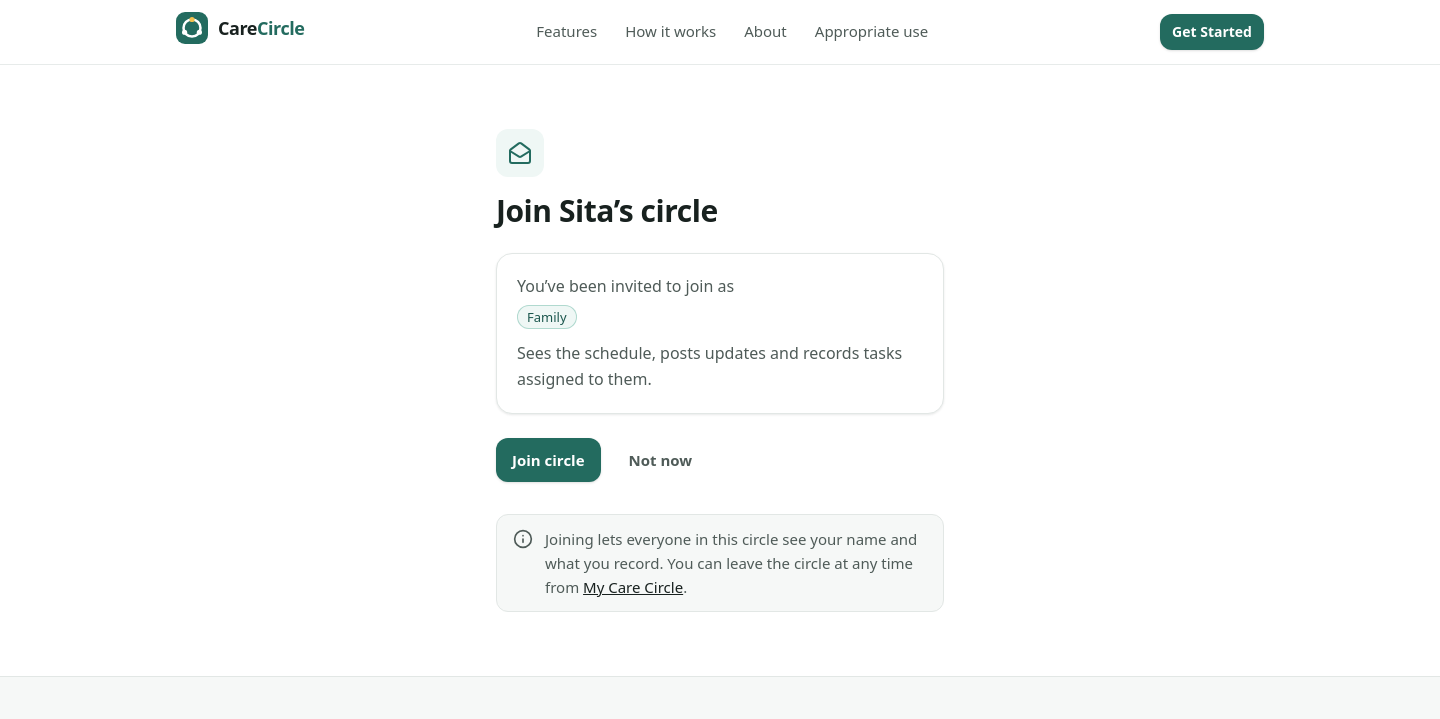
care circle › lets someone join through an invitation link
expect the heading "Join Sita’s circle" is shown: met, box [496,190,718,231]
What coordinates should you click on to do the following:
click the button "Join circle"
I would click on:
 (548, 460)
Its box is [496,438,600,482].
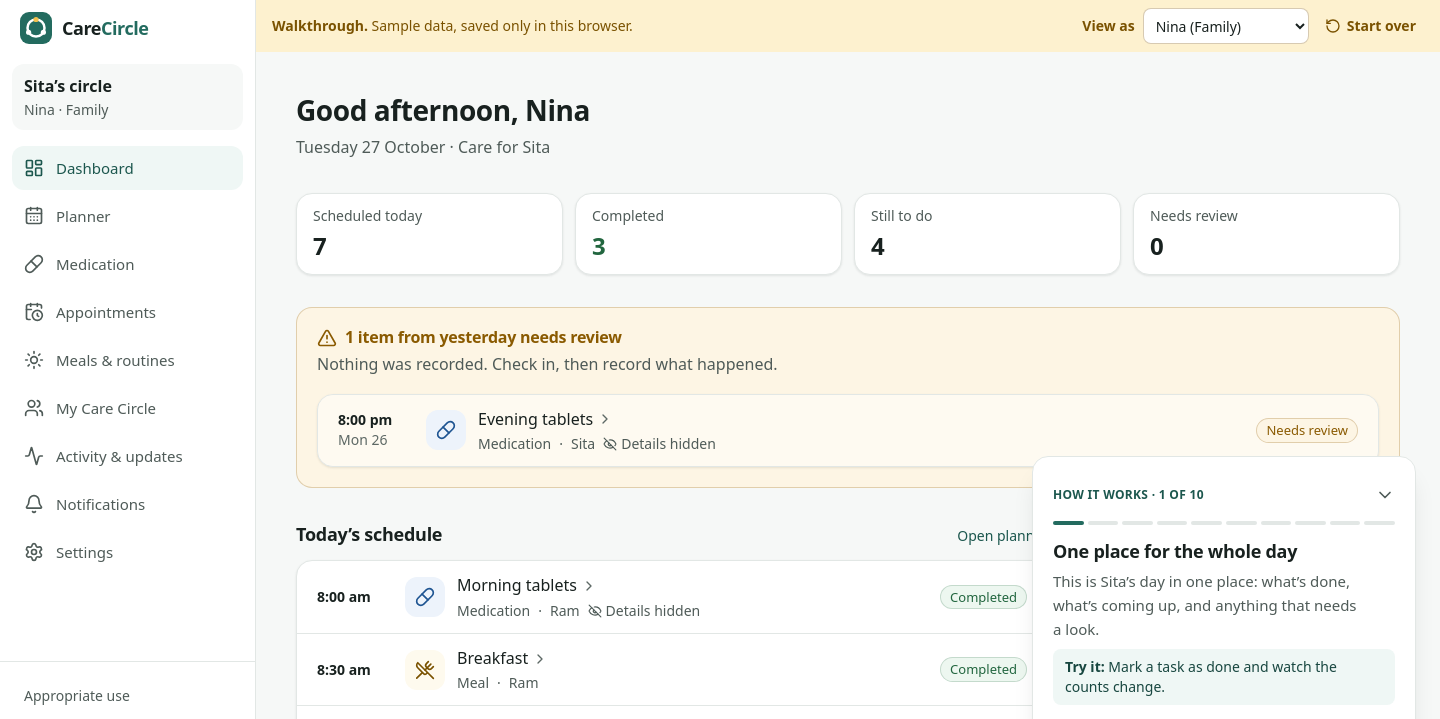
expect the heading "Good afternoon, Nina" is shown: met, box [296,92,590,129]
